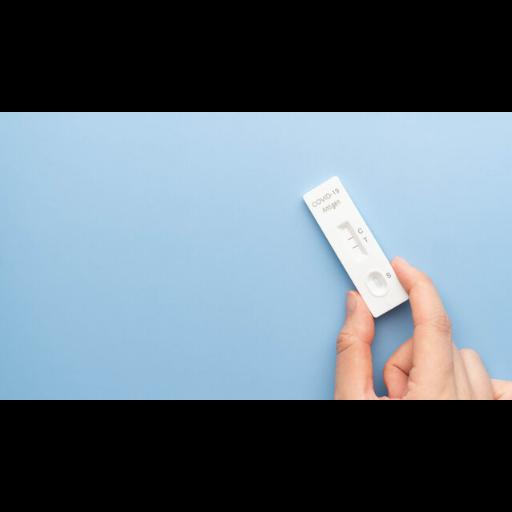Pos: (301, 174, 409, 318)
